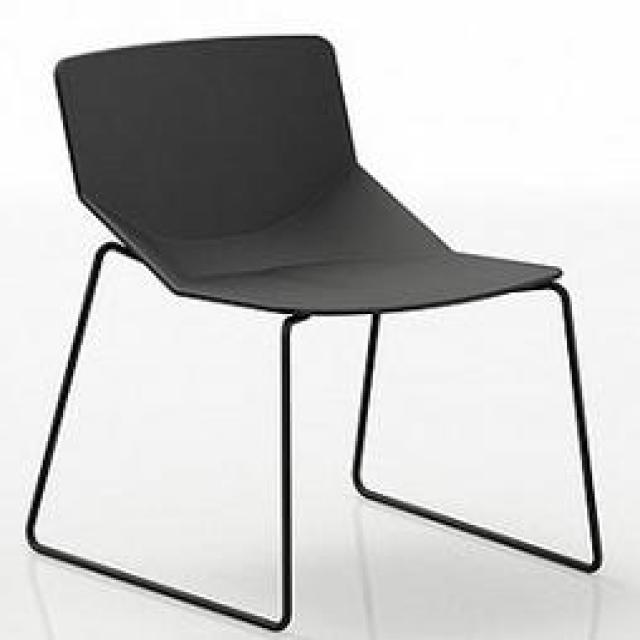chair: (22, 33, 603, 640)
